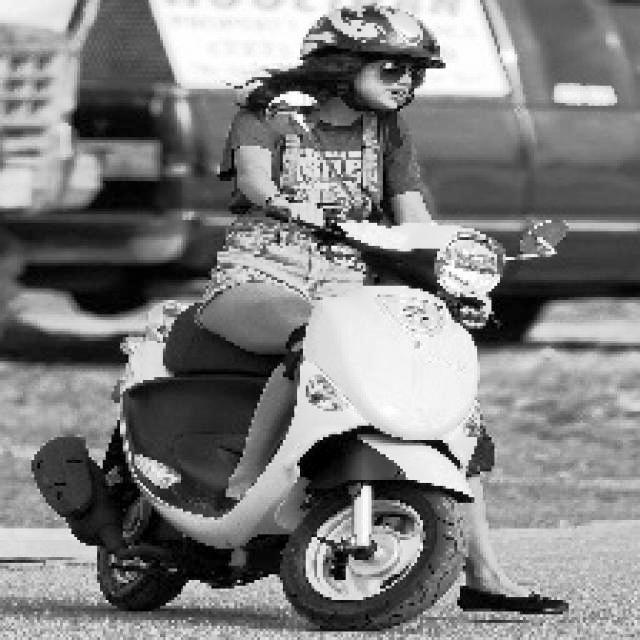Bike: (113, 232, 521, 640)
